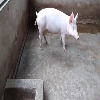heo: (31, 5, 80, 53)
